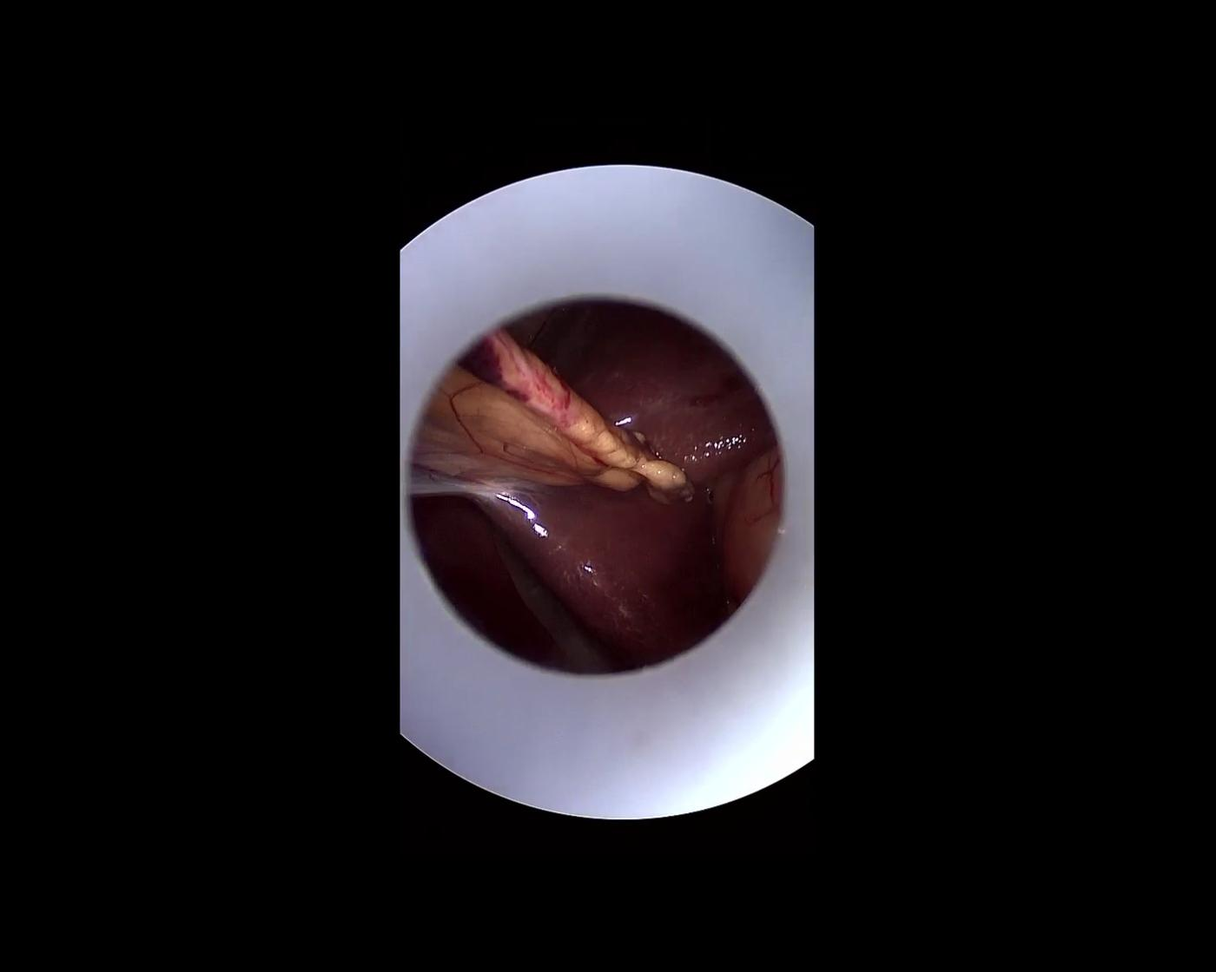Liver: (524, 247, 798, 514), (475, 471, 722, 676)
